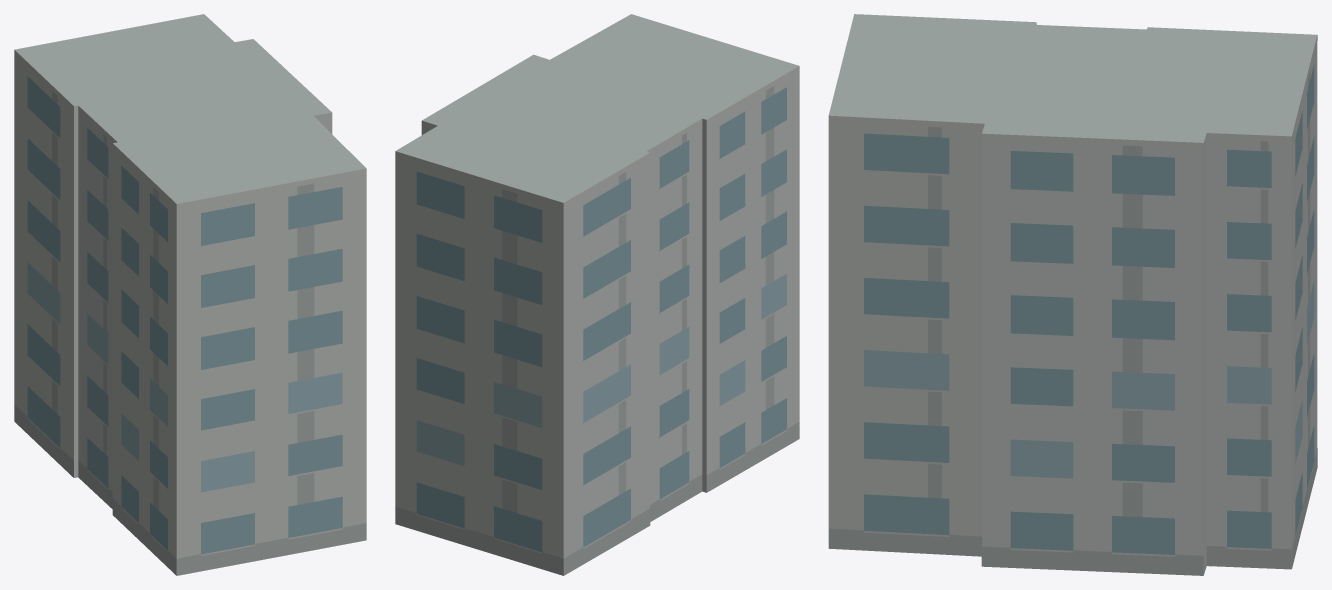
Rendered from survey-upis-32567055.glb.
3 renders of one model, left to right at view 1: azimuth 30°, elevation 25°; view 2: azimuth 150°, elevation 25°; view 3: azimuth 270°, elevation 25°, orthographic. The views are drawn at different scales.
Parts seen in each view (by area): view 1: survey-upis-32567055.tmp; view 2: survey-upis-32567055.tmp; view 3: survey-upis-32567055.tmp.
Part boxes in pixels (x1,y1,x2,y2): survey-upis-32567055.tmp: (14,14,366,575); survey-upis-32567055.tmp: (395,14,799,575); survey-upis-32567055.tmp: (828,14,1317,575).
Bounding box in the file's own units: 11.31 × 17.7 × 18.12.
